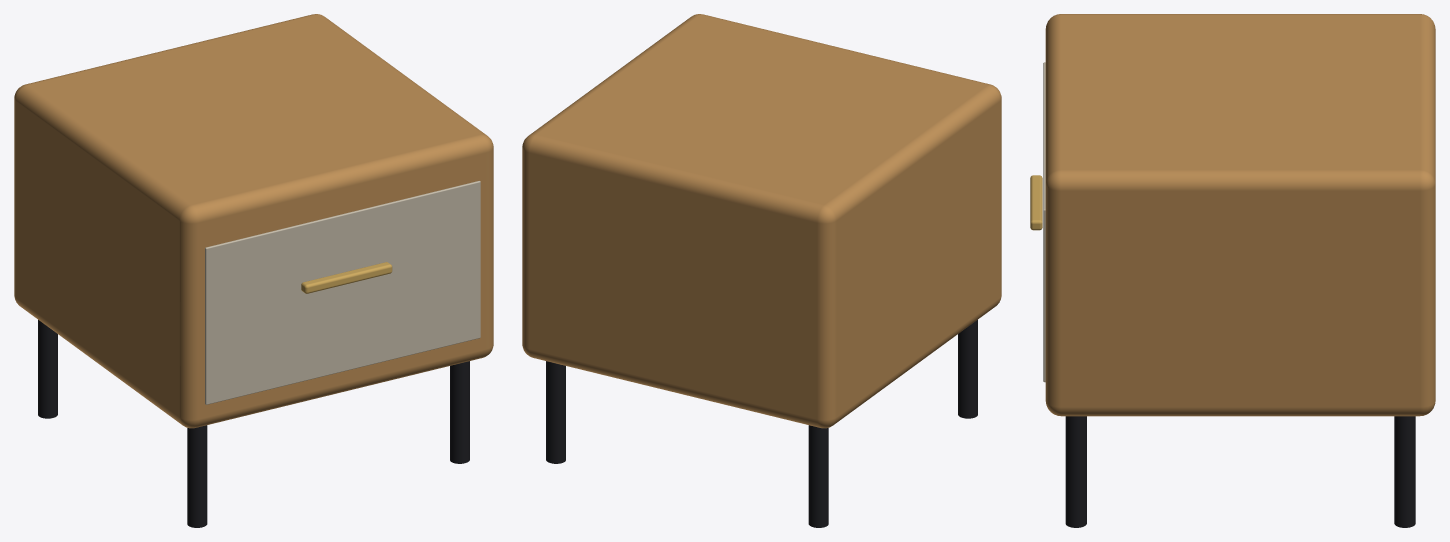
Rendered from painted_wooden_nightstand.gltf.
3 renders of one model, left to right at view 1: azimuth 30°, elevation 25°; view 2: azimuth 150°, elevation 25°; view 3: azimuth 270°, elevation 25°, orthographic. The views are drawn at different scales.
Parts seen in each view (by area): view 1: painted_wooden_nightstand; view 2: painted_wooden_nightstand; view 3: painted_wooden_nightstand.
Boxes of the visible parts, <box> form: painted_wooden_nightstand: <box>14,14,493,527</box>; painted_wooden_nightstand: <box>522,14,1001,527</box>; painted_wooden_nightstand: <box>1030,14,1435,527</box>.
Bounding box in the file's own units: 0.5 × 0.5 × 0.51.
